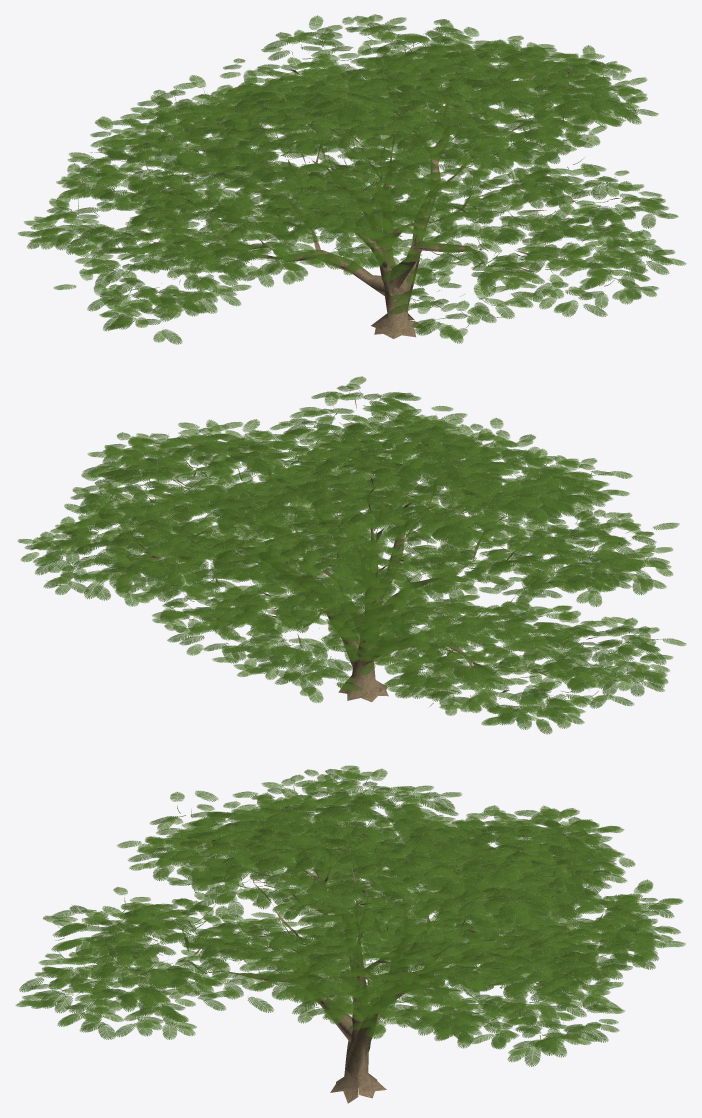
Rendered from poinciana_b.glb.
The picture shows the model from 3 angles, top to bottom: view 1: azimuth 30°, elevation 25°; view 2: azimuth 150°, elevation 25°; view 3: azimuth 270°, elevation 25°; orthographic projection. The views are drawn at different scales.
Parts seen in each view (by area): view 1: Delonix_regia_HD_Delonix leaf 01_0; view 2: Delonix_regia_HD_Delonix leaf 01_0; view 3: Delonix_regia_HD_Delonix leaf 01_0.
Boxes of the visible parts, bbox=[...] form: Delonix_regia_HD_Delonix leaf 01_0: bbox=[18, 14, 686, 344]; Delonix_regia_HD_Delonix leaf 01_0: bbox=[18, 376, 686, 734]; Delonix_regia_HD_Delonix leaf 01_0: bbox=[15, 765, 685, 1103].
Bounding box in the file's own units: 13.53 × 5.7 × 12.7.
Materials: 4 (4 with a texture image).
